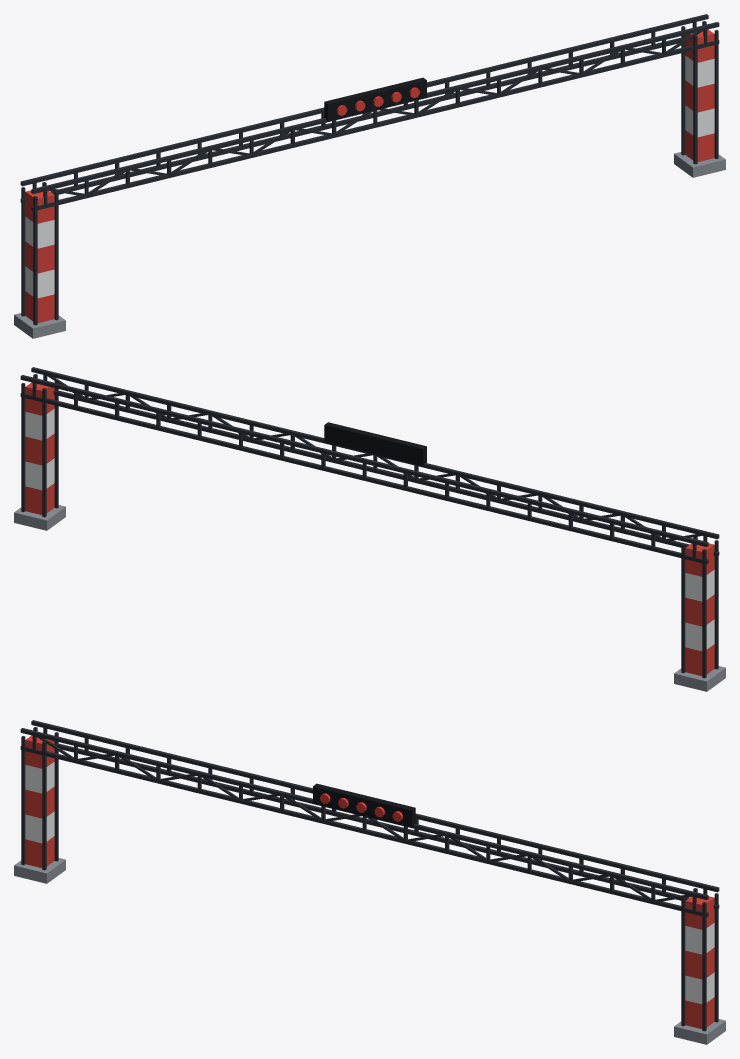
Rendered from gantry.glb.
3 views of the same model, one above another, from view 1: azimuth 30°, elevation 25°; view 2: azimuth 150°, elevation 25°; view 3: azimuth 330°, elevation 25° (orthographic).
Visible parts, largest first — view 1: beam, post-l, post-r, lights; view 2: beam, post-l, post-r, lights; view 3: beam, post-r, post-l, lights.
Part boxes in pixels (x1,y1,x2,y2): beam: [20, 14, 719, 211]; post-l: [14, 182, 65, 338]; post-r: [674, 21, 725, 177]; lights: [324, 77, 426, 121]; beam: [20, 367, 719, 564]; post-l: [674, 536, 725, 691]; post-r: [14, 374, 65, 530]; lights: [324, 422, 426, 466]; beam: [20, 720, 719, 917]; post-r: [674, 888, 725, 1044]; post-l: [14, 727, 65, 883]; lights: [313, 783, 415, 827].
Size of the model in its own units: 2.1 by 0.465 by 0.1.
